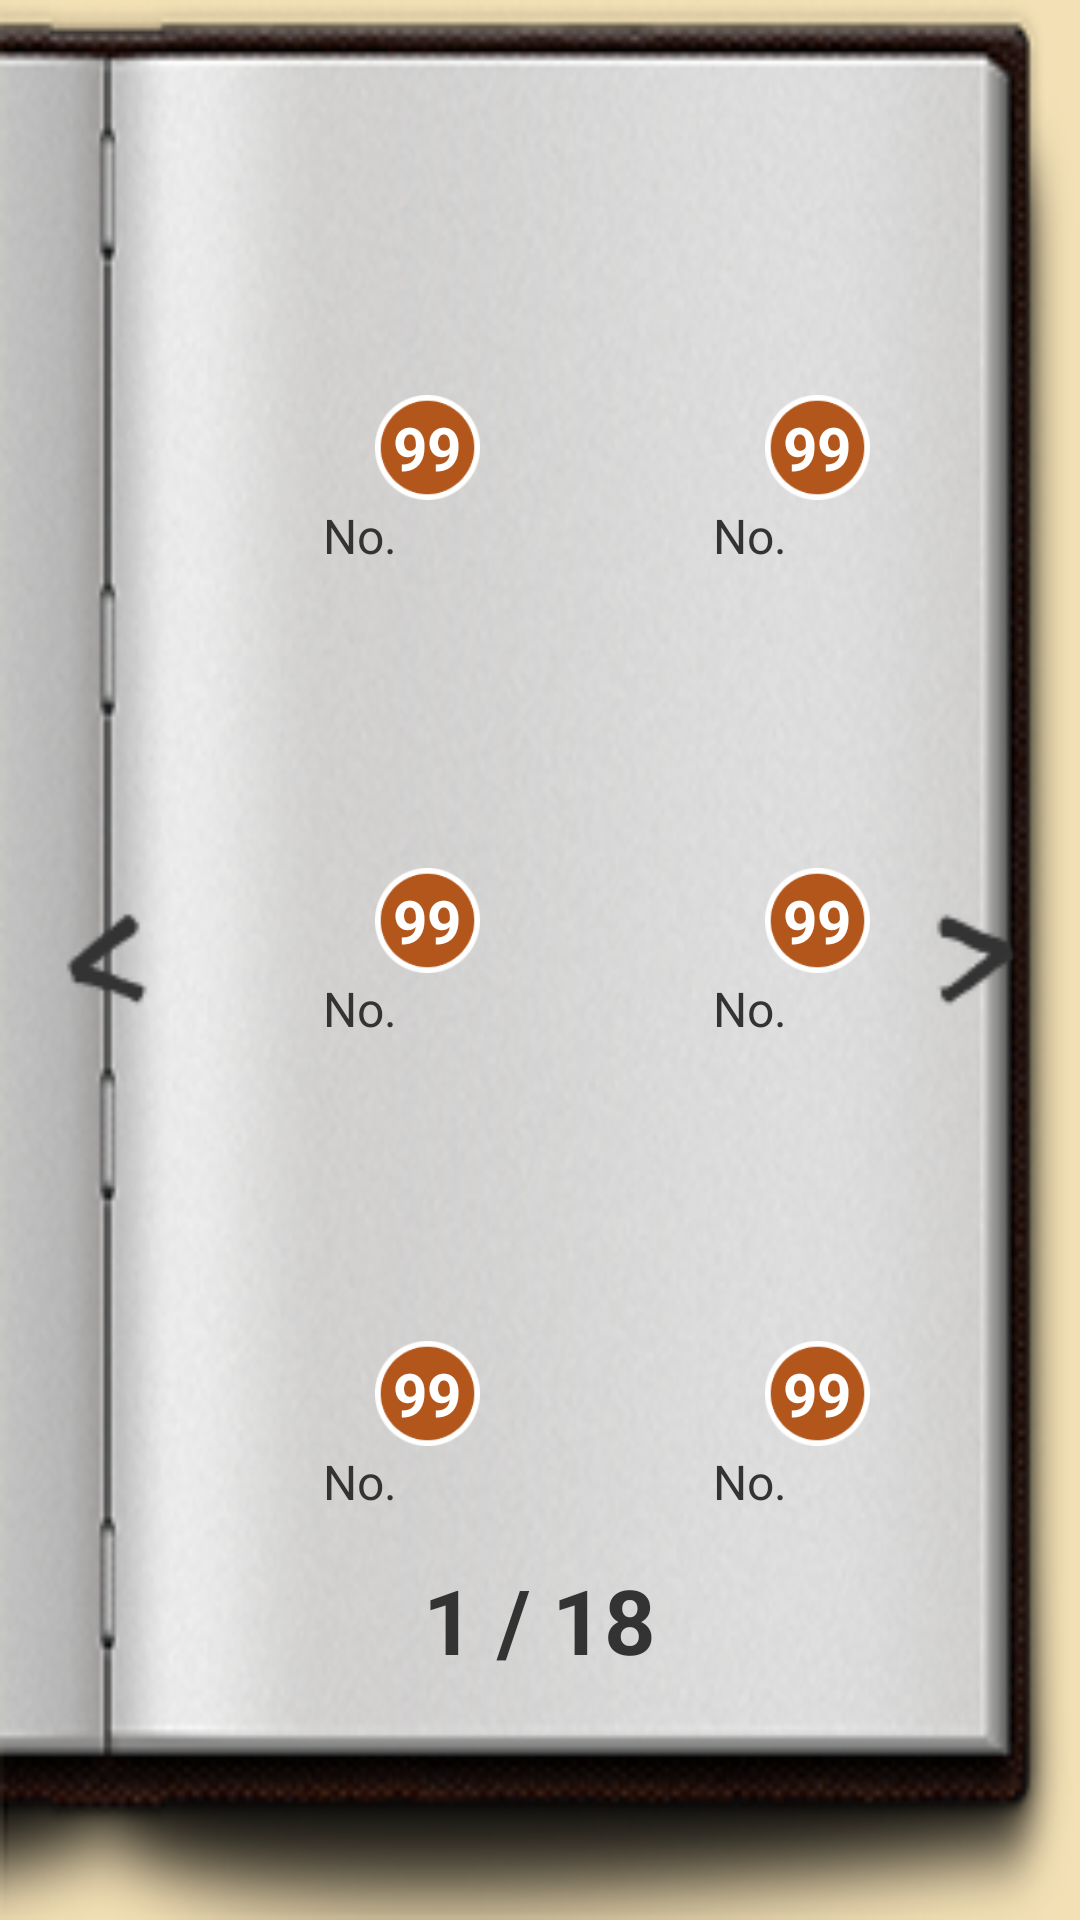

Screen size 1080w x 1920h. Icon name, then its center in pixels as [x,y]:
page pointer left: [105,960]
page pointer right: [975,960]
